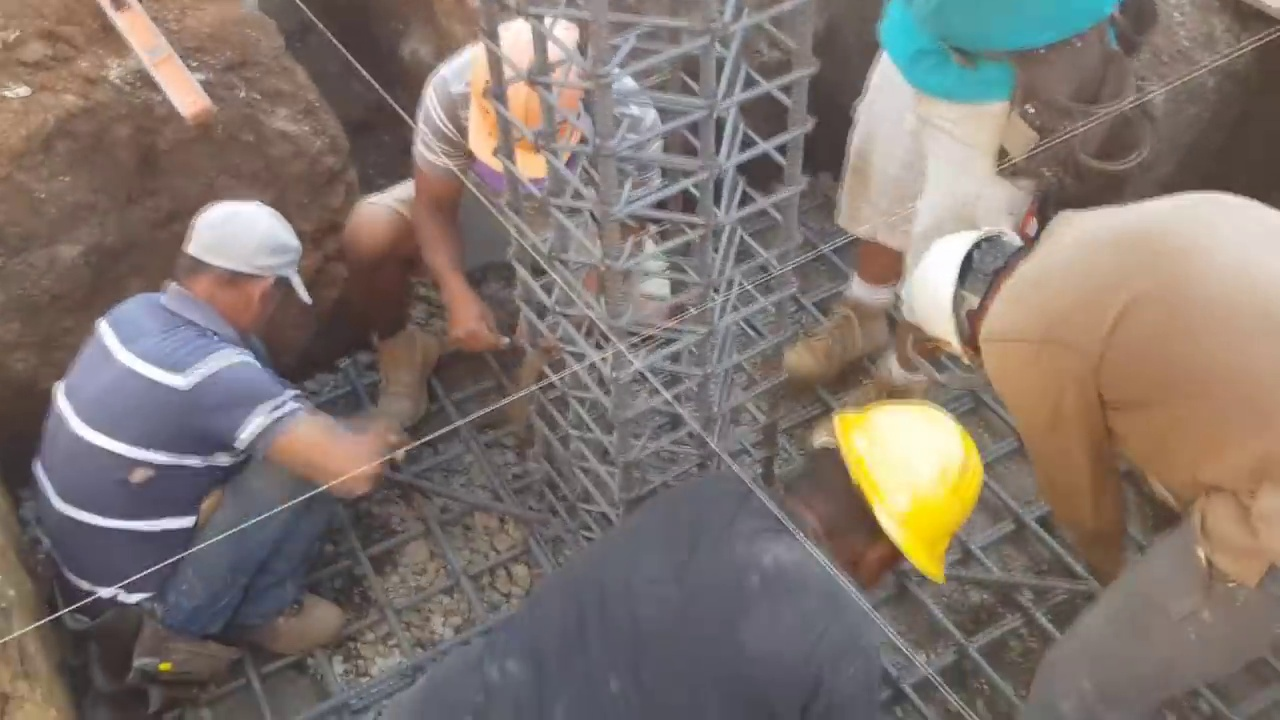helmet: (842, 396, 990, 590), (463, 15, 586, 182), (914, 219, 1019, 363)
helmet-off: (164, 198, 307, 340)
helmet-on: (777, 406, 994, 596), (421, 13, 615, 204), (907, 198, 1053, 363)
person: (356, 380, 1028, 720), (35, 195, 430, 698), (904, 203, 1280, 707), (344, 25, 660, 435), (833, 22, 1146, 329)
